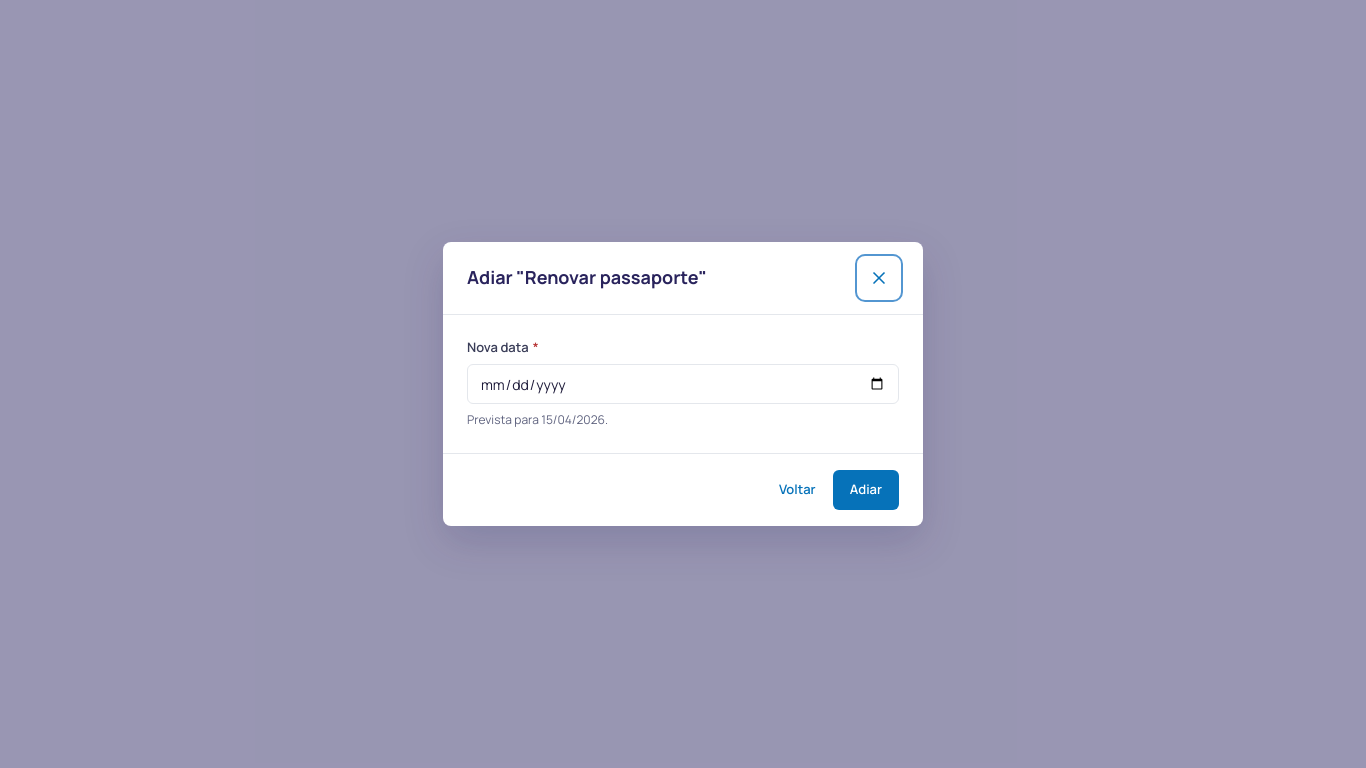
Test: 409 avisa e recarrega a lista de pendências (senão a versão velha trava o retry)
Type "2026-04-20" into the date field labelled "Nova data *" at (683, 384), box [467,364,899,404]
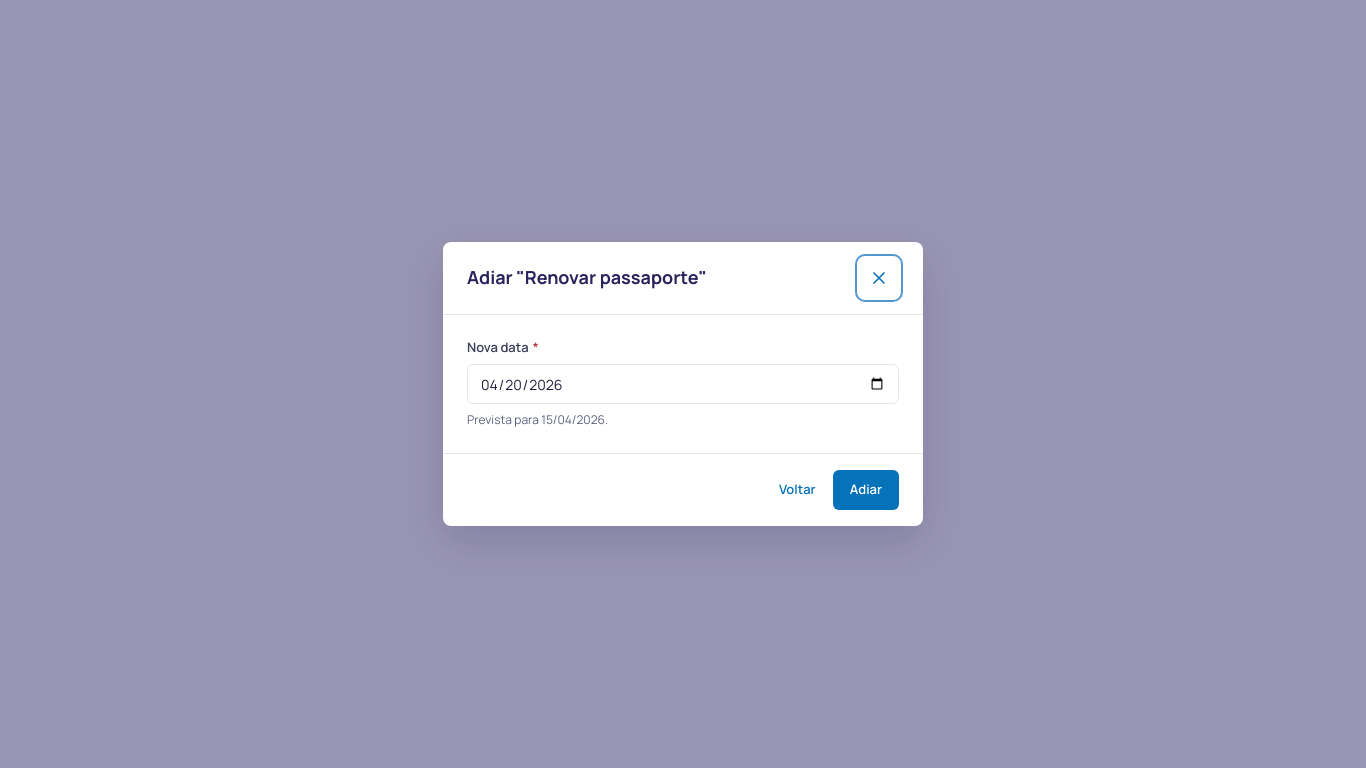
Click the button "Adiar" at (866, 490), box [833,470,899,510]
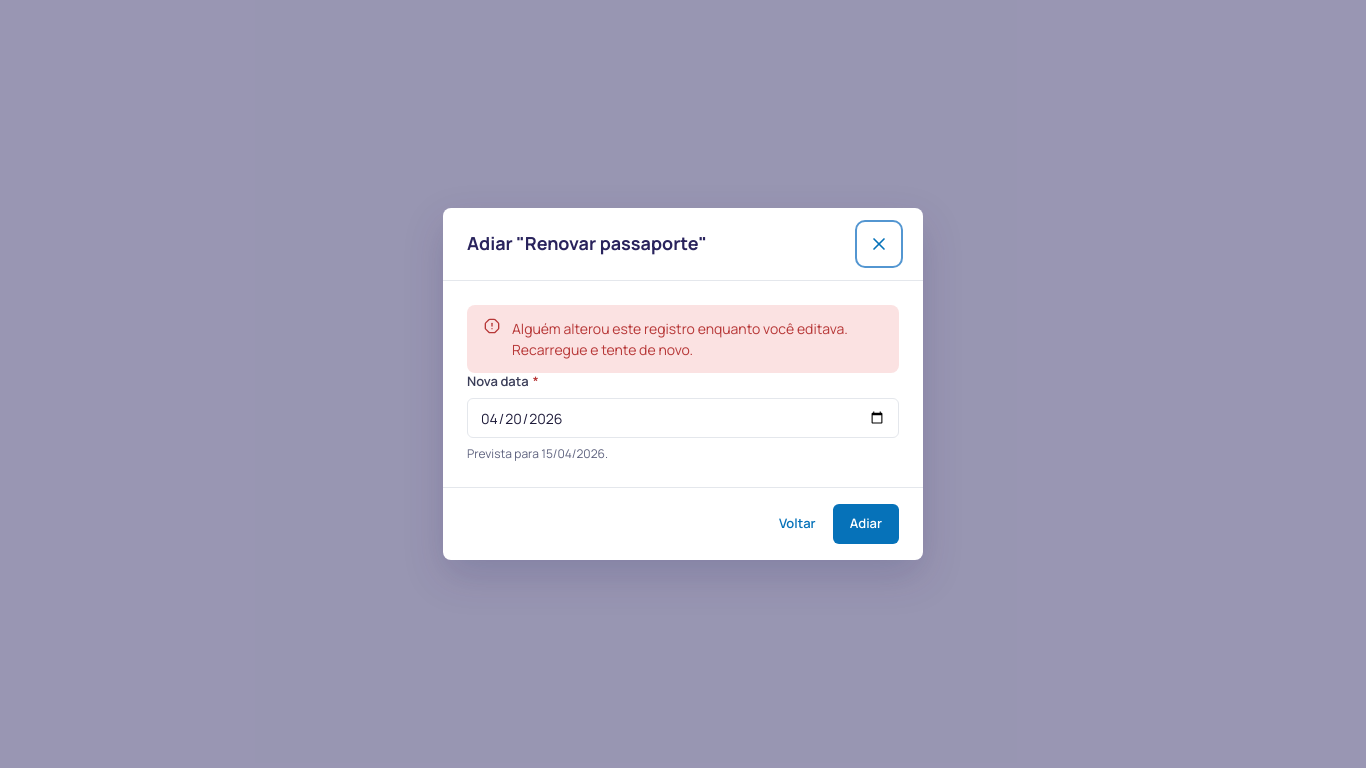
Expected: the text "Alguém alterou este registro" is shown, [512,319,848,359]
